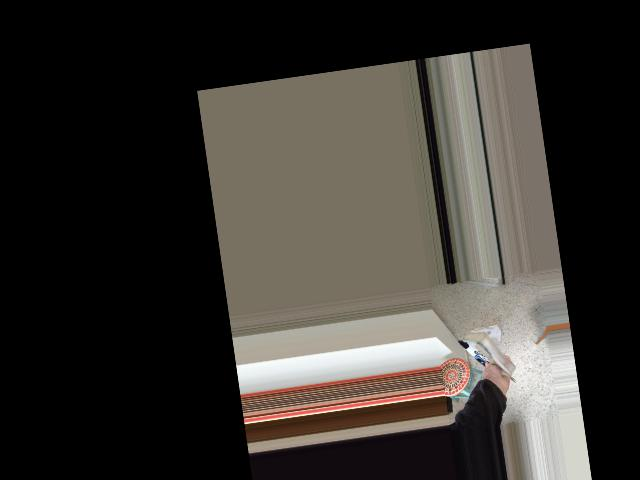cheese: (447, 317, 525, 400)
